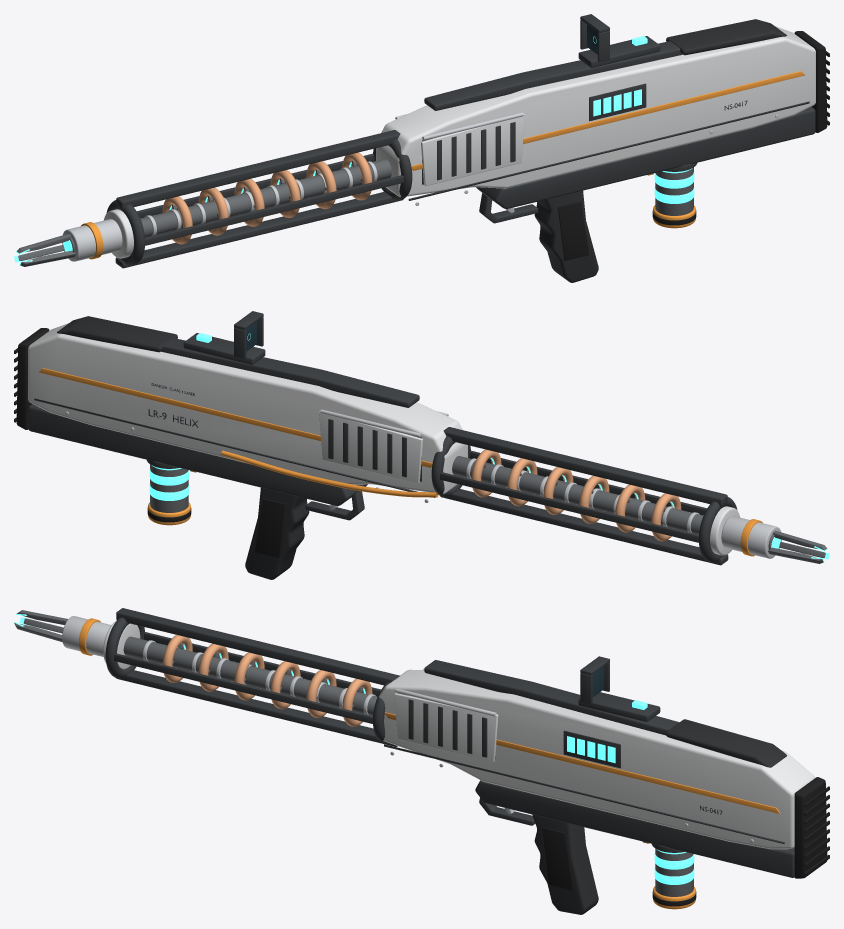
File: gun.glb
3 views of the same model, one above another, from view 1: azimuth 30°, elevation 25°; view 2: azimuth 150°, elevation 25°; view 3: azimuth 330°, elevation 25° (orthographic).
Visible parts, largest first — view 1: LR9_Shell, LR9_Frame, LR9_DarkMetal, LR9_FrameGrip, LR9_Copper, LR9_Metal, LR9_Rubber, LR9_Accent, LR9_Cyan; view 2: LR9_Shell, LR9_Frame, LR9_DarkMetal, LR9_FrameGrip, LR9_Accent, LR9_Copper, LR9_Metal, LR9_Rubber, LR9_Cyan; view 3: LR9_Shell, LR9_Frame, LR9_FrameGrip, LR9_DarkMetal, LR9_Rubber, LR9_Copper, LR9_Metal, LR9_Accent, LR9_Cyan.
Boxes of the visible parts, bbox=[...] form: LR9_Shell: bbox=[103, 26, 815, 258]; LR9_Frame: bbox=[106, 14, 815, 268]; LR9_DarkMetal: bbox=[17, 159, 693, 266]; LR9_FrameGrip: bbox=[534, 19, 786, 282]; LR9_Copper: bbox=[162, 152, 372, 244]; LR9_Metal: bbox=[62, 112, 778, 261]; LR9_Rubber: bbox=[558, 31, 829, 260]; LR9_Accent: bbox=[81, 71, 804, 259]; LR9_Cyan: bbox=[14, 36, 694, 265]; LR9_Shell: bbox=[28, 323, 740, 555]; LR9_Frame: bbox=[28, 311, 737, 565]; LR9_DarkMetal: bbox=[150, 456, 826, 563]; LR9_FrameGrip: bbox=[57, 316, 309, 579]; LR9_Accent: bbox=[39, 368, 762, 556]; LR9_Copper: bbox=[471, 449, 681, 541]; LR9_Metal: bbox=[65, 409, 781, 558]; LR9_Rubber: bbox=[14, 328, 285, 557]; LR9_Cyan: bbox=[149, 333, 829, 562]; LR9_Shell: bbox=[103, 620, 815, 849]; LR9_Frame: bbox=[105, 608, 794, 877]; LR9_FrameGrip: bbox=[532, 719, 786, 914]; LR9_DarkMetal: bbox=[14, 610, 693, 896]; LR9_Rubber: bbox=[542, 777, 829, 906]; LR9_Copper: bbox=[162, 635, 372, 726]; LR9_Metal: bbox=[62, 616, 753, 843]; LR9_Accent: bbox=[79, 618, 780, 909]; LR9_Cyan: bbox=[14, 614, 694, 884].
Size of the model in its own units: 0.9795 by 0.2918 by 0.072.
